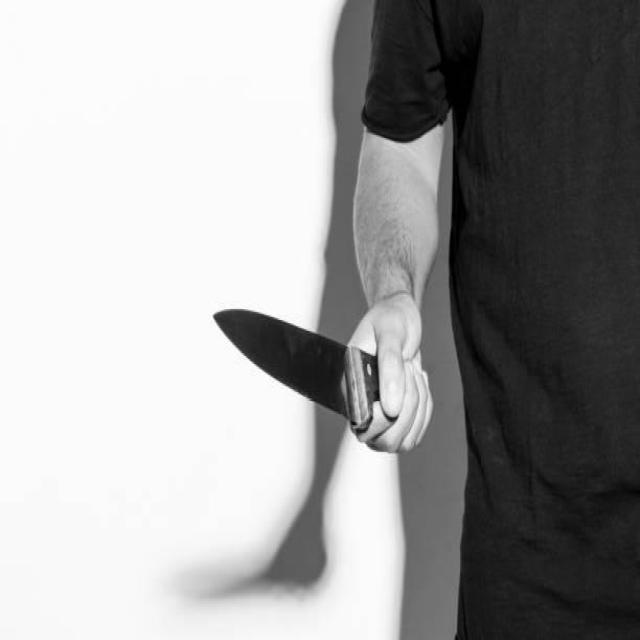faca: (202, 276, 442, 466)
